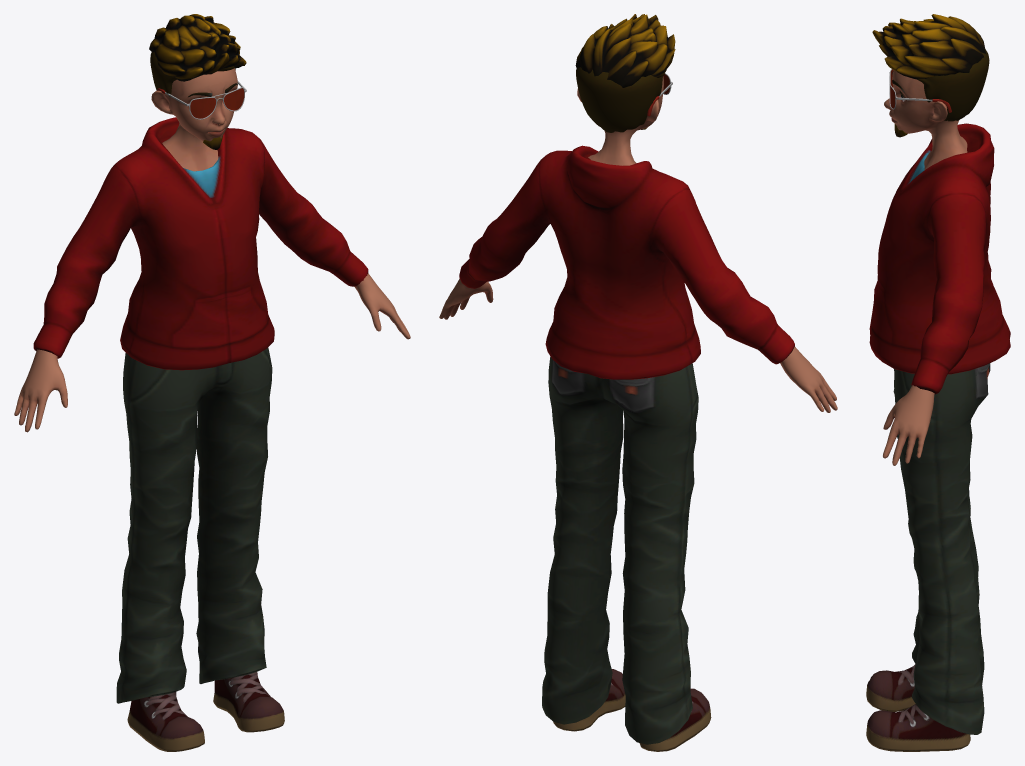
Rendered from Tyler_Mesh.obj.
The picture shows the model from 3 angles, left to right: view 1: azimuth 30°, elevation 25°; view 2: azimuth 150°, elevation 25°; view 3: azimuth 270°, elevation 25°; orthographic projection.
Visible parts, largest first — view 1: Tyler_Mesh_0; view 2: Tyler_Mesh_0; view 3: Tyler_Mesh_0.
Boxes of the visible parts, x1,y1,x2,y2 form: Tyler_Mesh_0: (14,14,410,751); Tyler_Mesh_0: (439,14,837,751); Tyler_Mesh_0: (866,14,1010,751).
Size of the model in its own units: 1.06 by 1.84 by 0.3421.
Materials: 1 (1 with a texture image).
